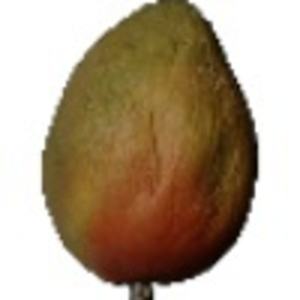mamão: (33, 2, 260, 288)
